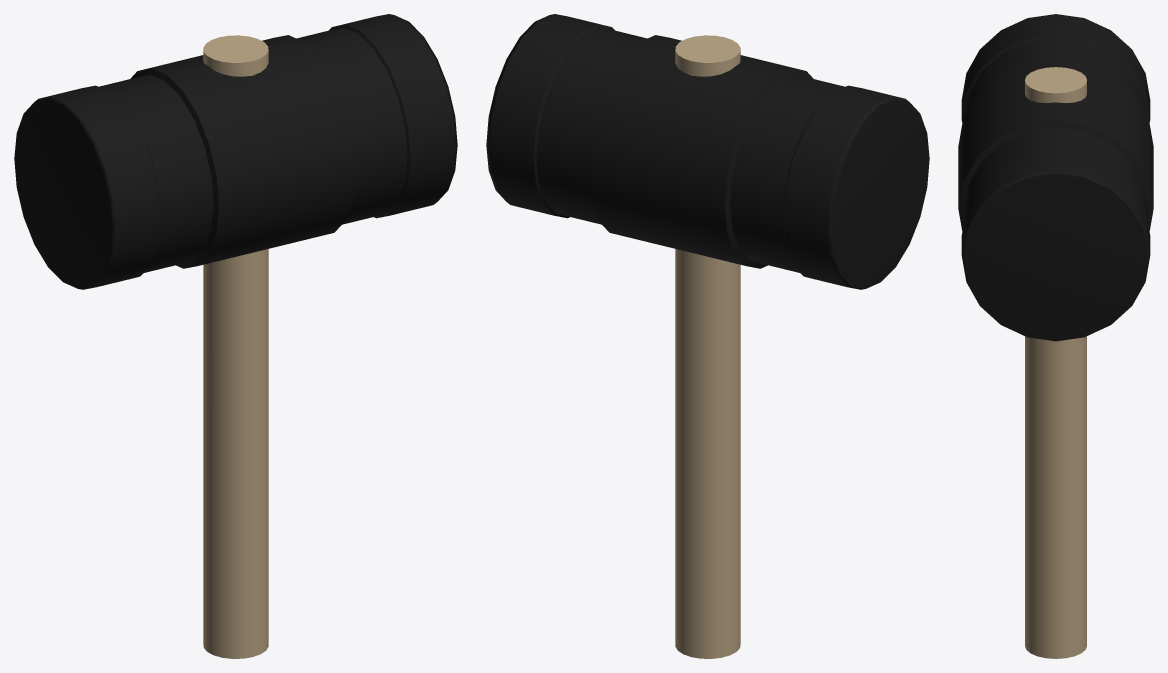
Rendered from molot.fbx.
3 renders of one model, left to right at view 1: azimuth 30°, elevation 25°; view 2: azimuth 150°, elevation 25°; view 3: azimuth 270°, elevation 25°, orthographic. The views are drawn at different scales.
Visible parts, largest first — view 1: Molot1; view 2: Molot1; view 3: Molot1.
Part boxes in pixels (x1,y1,x2,y2): Molot1: (14,14,457,658); Molot1: (486,14,929,658); Molot1: (958,14,1153,658).
Size of the model in its own units: 27 by 44.01 by 13.76.
